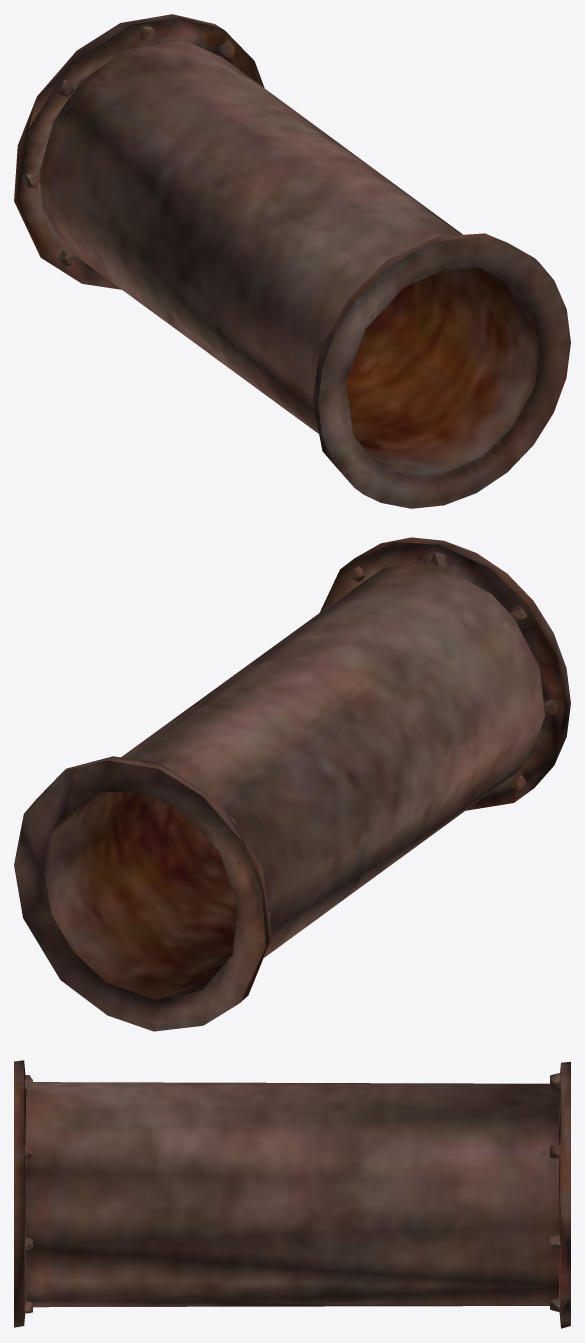
The model's file is rusty_pipe_21.glb.
The picture shows the model from 3 angles, top to bottom: view 1: azimuth 30°, elevation 25°; view 2: azimuth 150°, elevation 25°; view 3: azimuth 270°, elevation 25°; orthographic projection. The views are drawn at different scales.
Visible parts, largest first — view 1: rusty_pipe_21; view 2: rusty_pipe_21; view 3: rusty_pipe_21.
Boxes of the visible parts, x1,y1,x2,y2 form: rusty_pipe_21: [14, 14, 570, 508]; rusty_pipe_21: [14, 537, 570, 1031]; rusty_pipe_21: [14, 1060, 570, 1328].
Size of what is drawn, in the model's own units: 0.0287 by 0.0287 by 0.0599.
1 material, 1 textured.
